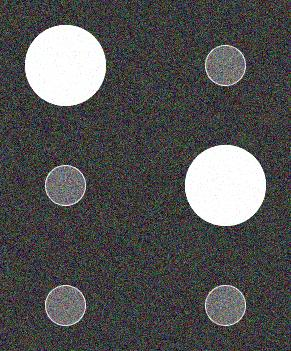E: (18, 18, 273, 339)
